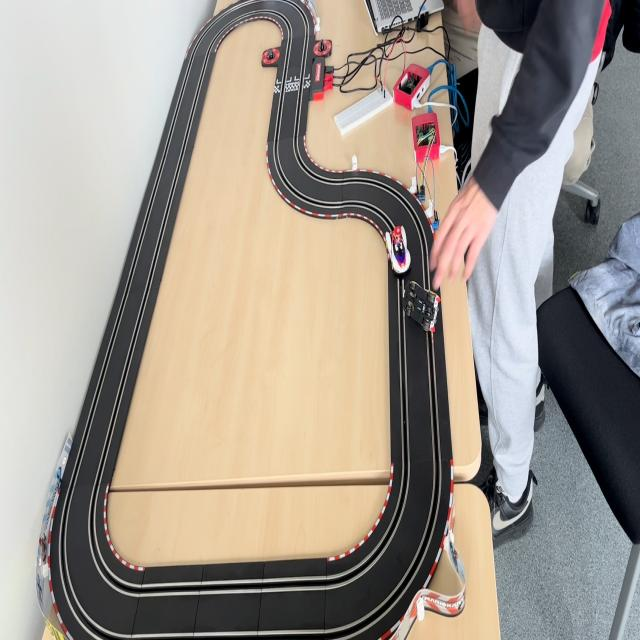mario: (386, 224, 410, 277)
